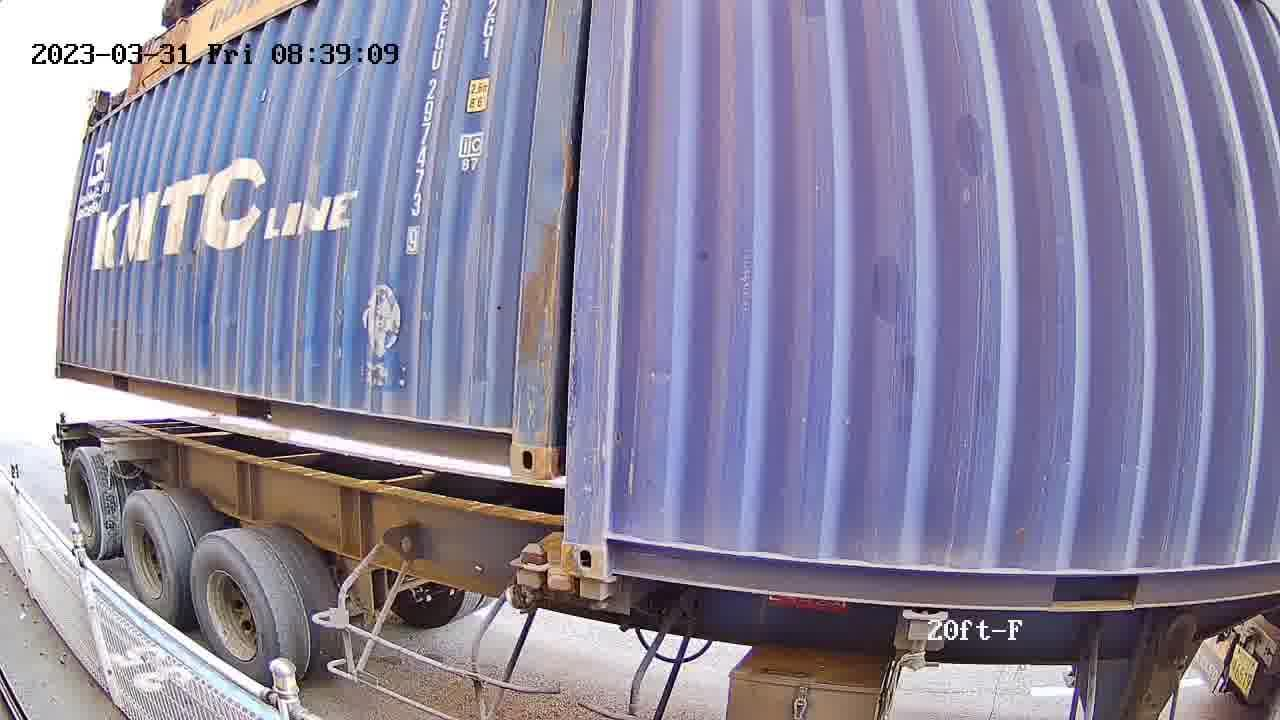Cone: (510, 542, 550, 610), (575, 576, 615, 613)
Hole_L: (564, 503, 644, 578)
Hole_R: (476, 406, 547, 480)
Tire: (188, 536, 281, 684), (120, 493, 179, 623), (67, 452, 109, 560)
